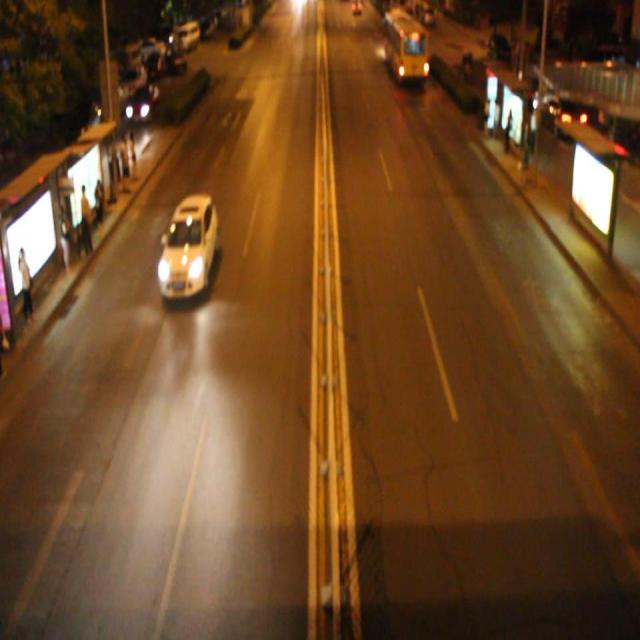car: (155, 192, 218, 302)
